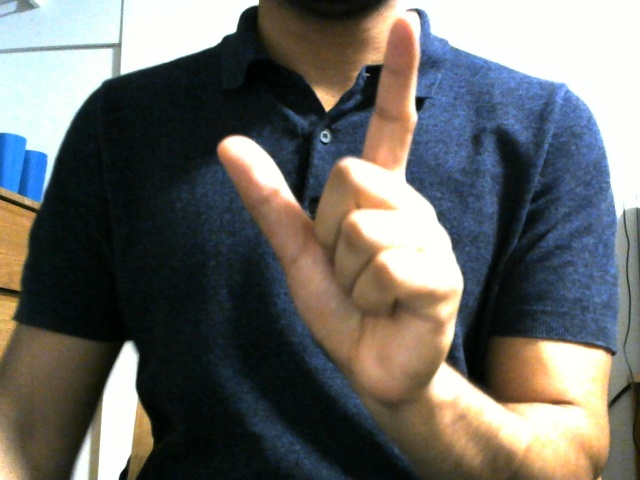L: (208, 5, 489, 397)
